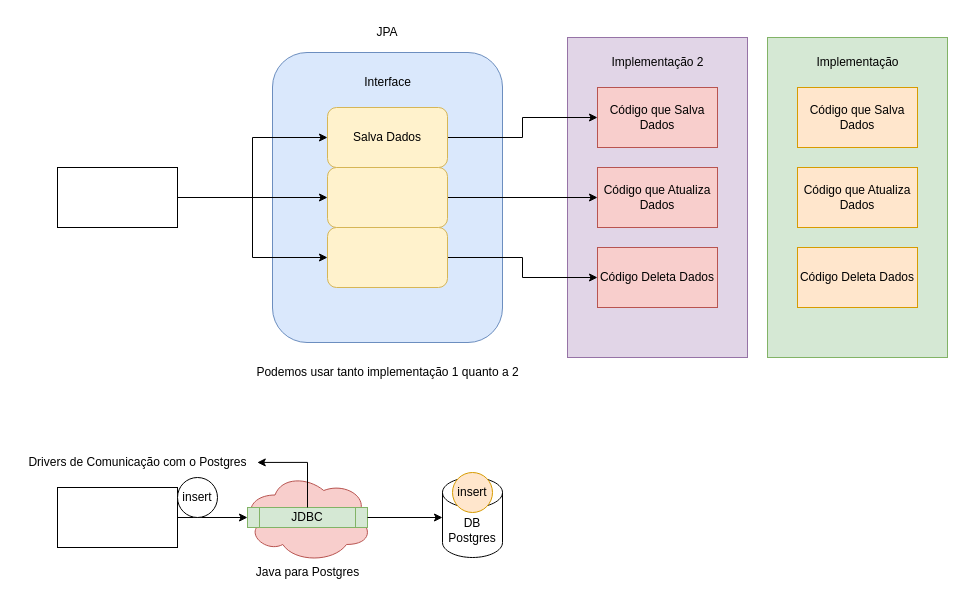
Image size: 965x604. Some labels were removed from this diagram. Here are the shapes that lost their labels. From the top down, the centre of each, then its label:
At point (117, 197): "Programa".
At point (387, 197): "Update Dados".
At point (387, 257): "Delete Dados".
At point (117, 517): "Programa Java".
